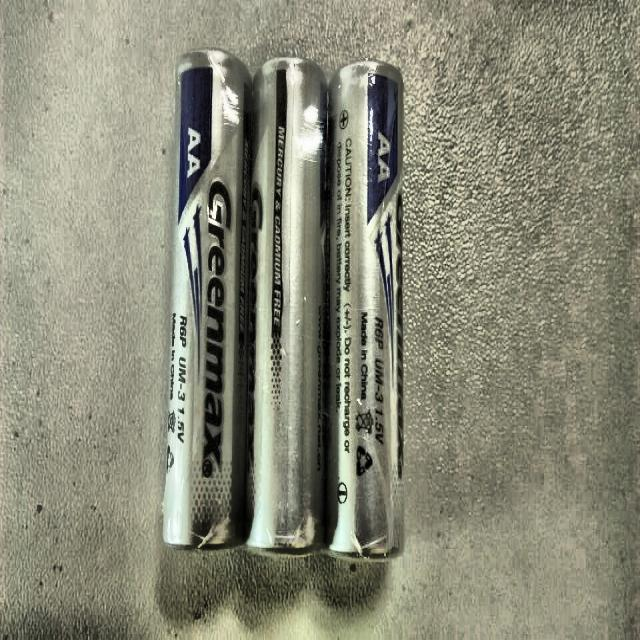Non-Valuable Waste - Batteries: (162, 51, 251, 547), (246, 58, 328, 549), (326, 64, 404, 556)
